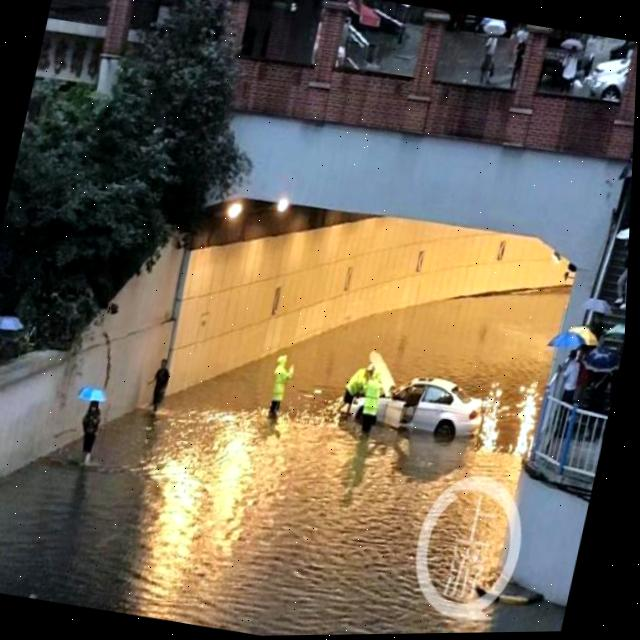civilian: (63, 390, 118, 476), (136, 353, 184, 423)
rescuer: (252, 340, 311, 425), (348, 366, 392, 435), (334, 359, 377, 418)
